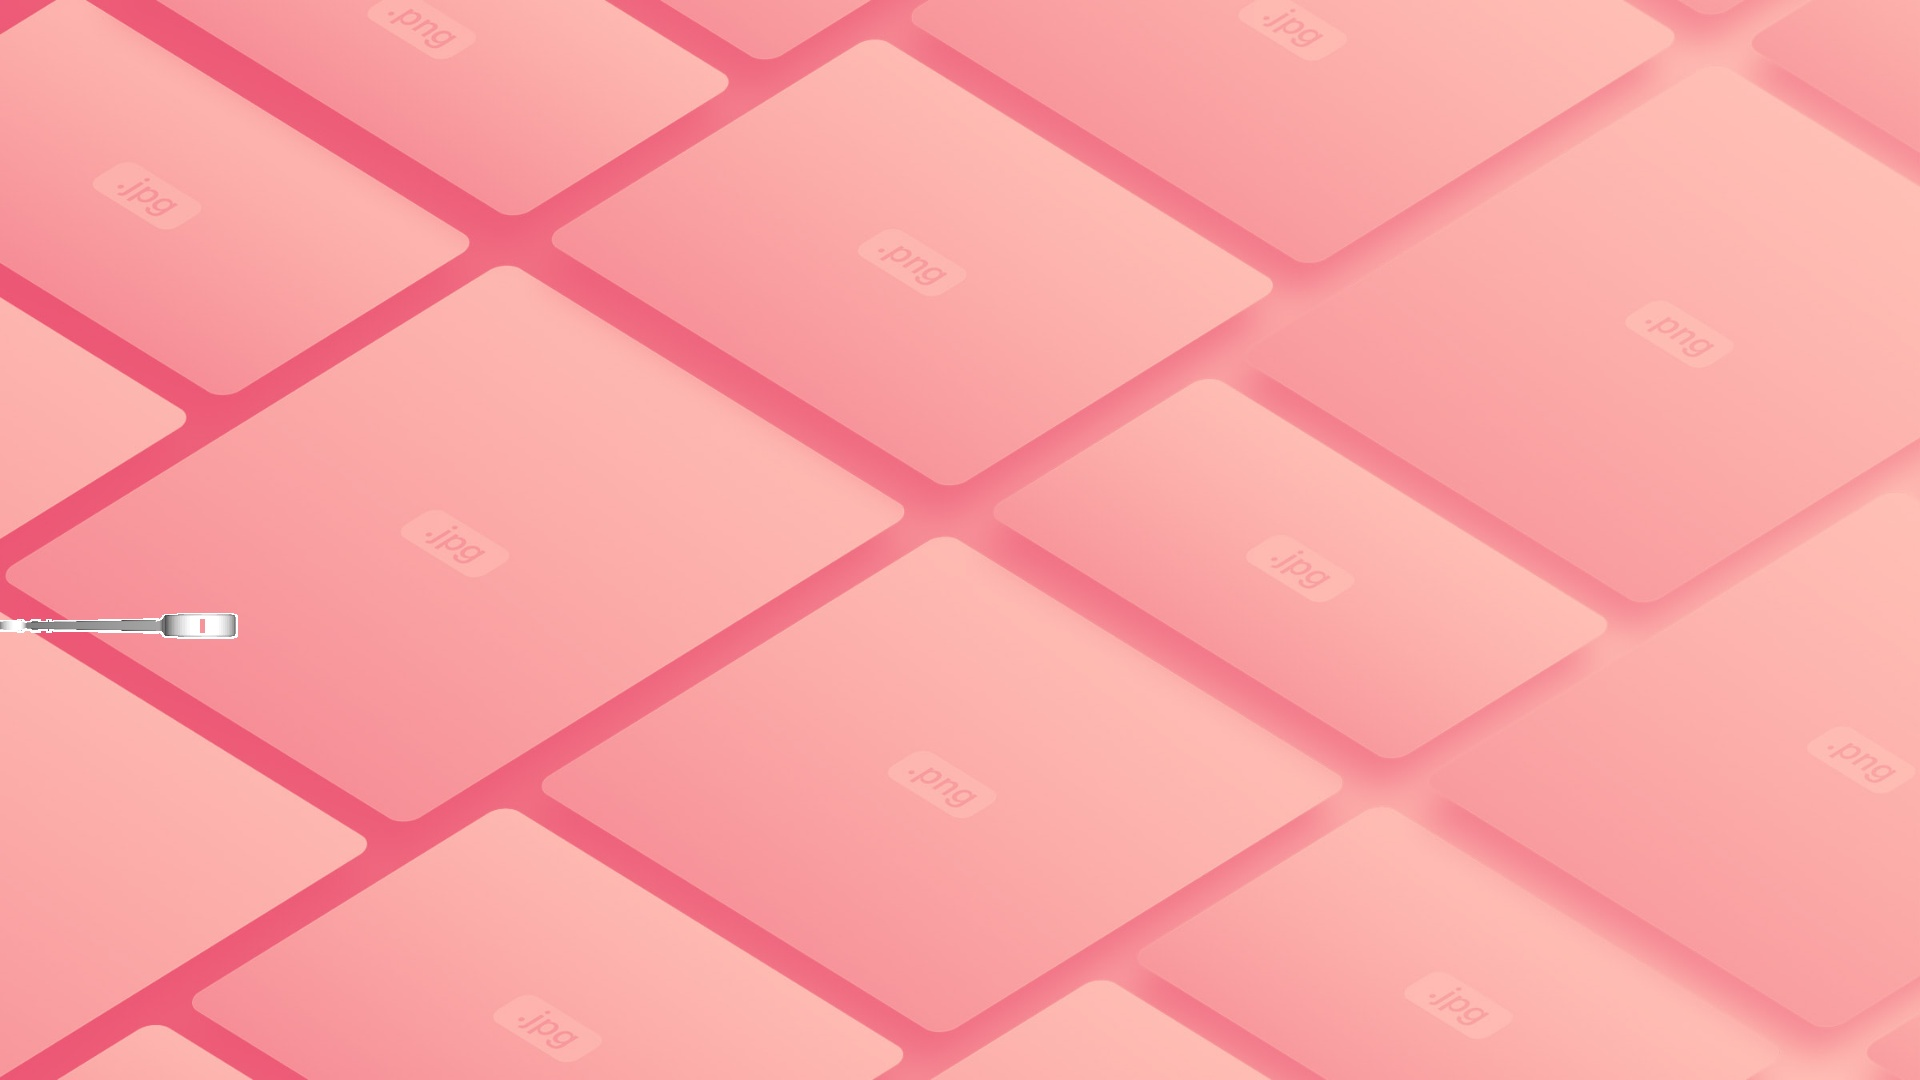Mixed Key: (0, 613, 237, 638)
